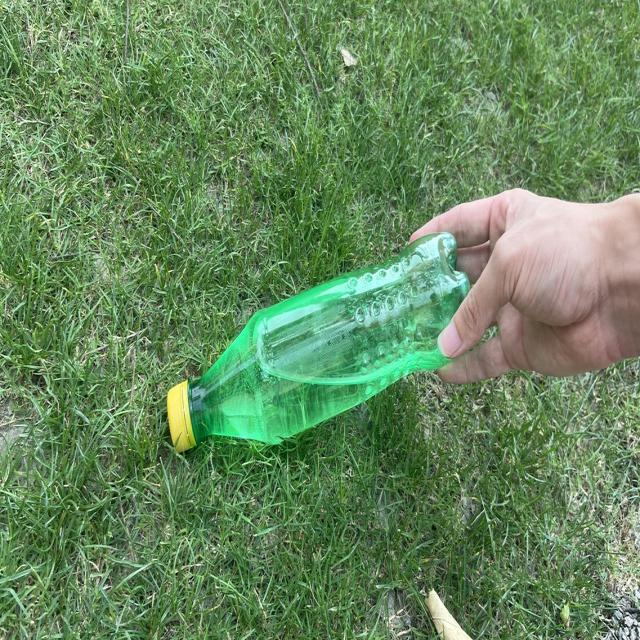medium: (167, 232, 469, 451)
